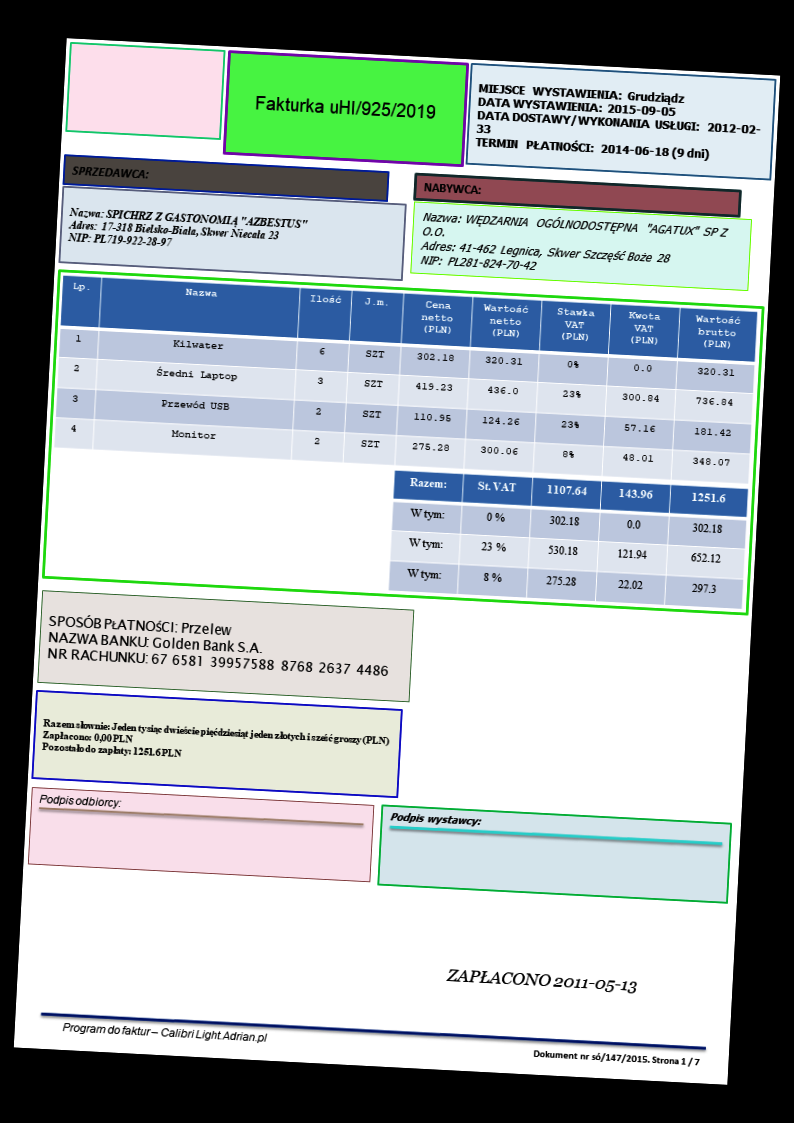Table: (52, 273, 758, 486), (387, 469, 750, 612)
TextBox: (473, 79, 766, 166), (44, 611, 393, 681), (417, 208, 732, 285), (39, 715, 392, 771), (66, 203, 311, 257), (444, 964, 639, 998), (60, 1018, 270, 1047), (252, 92, 439, 123), (531, 1046, 701, 1070), (388, 808, 483, 831), (36, 790, 123, 812), (68, 161, 152, 182), (421, 178, 483, 199)
